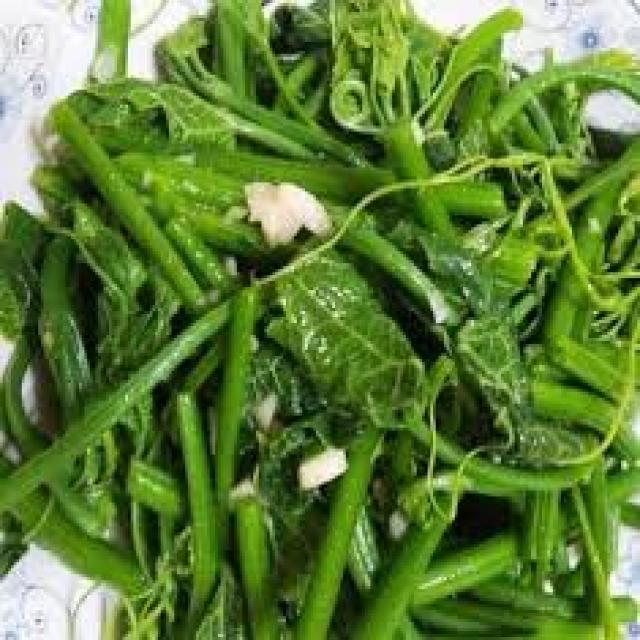organic waste: (30, 42, 637, 589), (156, 0, 420, 637), (0, 246, 264, 530), (74, 111, 498, 215), (386, 353, 634, 487), (57, 99, 202, 314), (414, 470, 637, 607), (155, 24, 357, 167), (264, 248, 422, 413), (41, 150, 267, 254), (485, 42, 637, 188), (438, 245, 540, 458), (0, 192, 49, 578), (163, 368, 226, 637), (322, 0, 442, 135), (204, 0, 319, 129), (294, 428, 362, 637), (427, 0, 523, 147), (547, 149, 613, 350), (362, 487, 447, 637), (38, 497, 158, 598), (441, 583, 637, 637), (526, 365, 637, 457), (368, 114, 458, 224), (259, 0, 332, 114), (536, 323, 638, 404), (226, 490, 283, 634), (490, 583, 637, 637), (210, 272, 240, 529), (123, 440, 196, 518), (240, 180, 330, 242), (596, 218, 638, 332), (84, 0, 128, 81), (291, 434, 346, 482), (0, 506, 27, 578), (245, 388, 275, 418)
